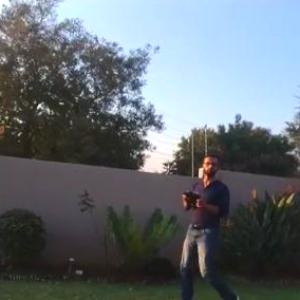follow: (161, 144, 244, 299)
